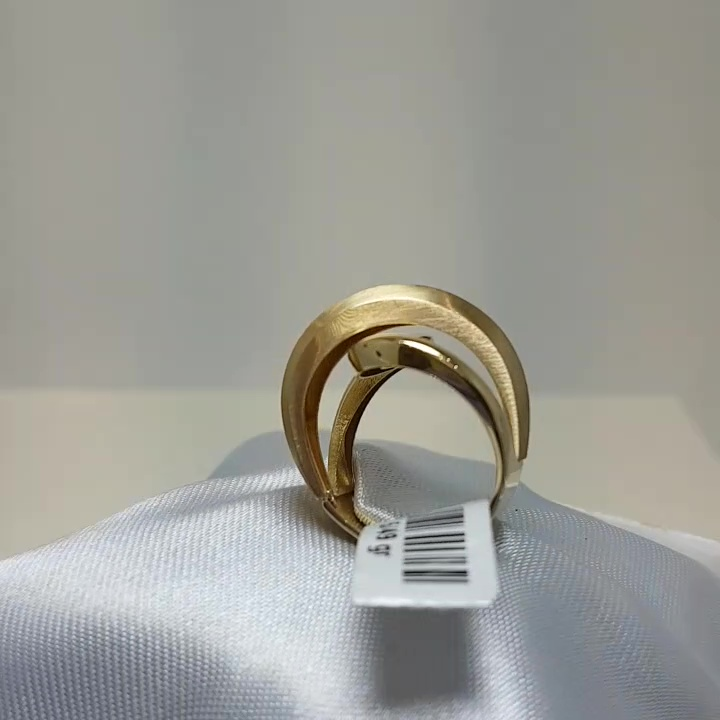Ring 3: (237, 263, 548, 550)
